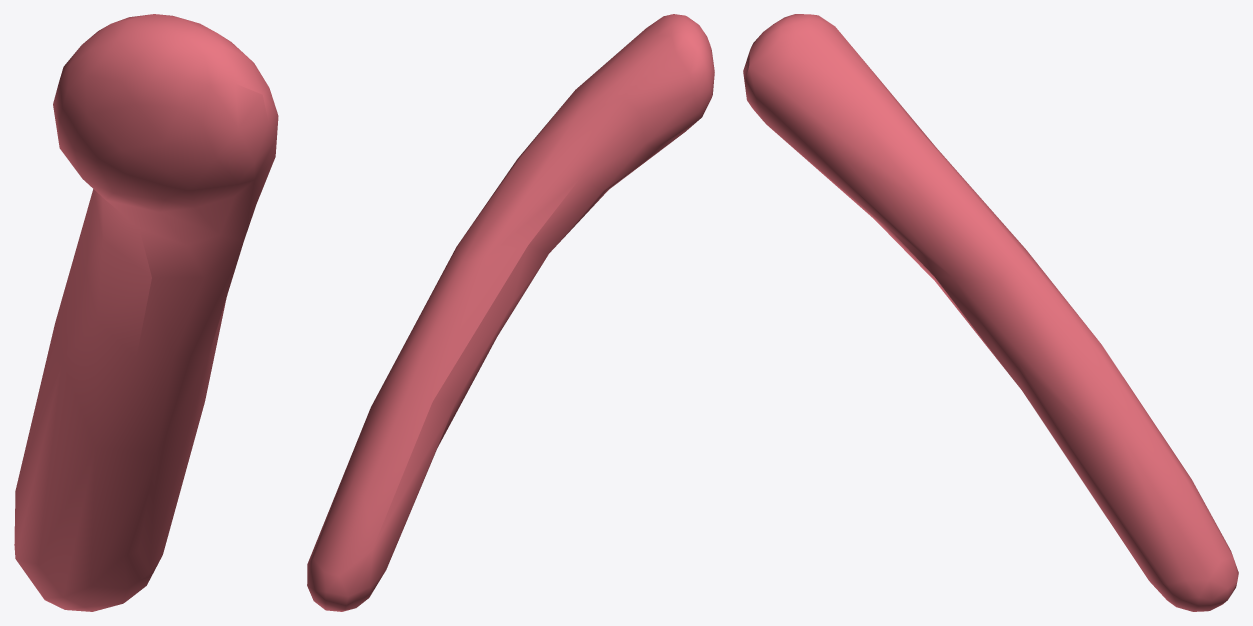
The model's file is fma50306_fj6013.glb.
3 renders of one model, left to right at view 1: azimuth 30°, elevation 25°; view 2: azimuth 150°, elevation 25°; view 3: azimuth 270°, elevation 25°, orthographic. The views are drawn at different scales.
Visible parts, largest first — view 1: FMA50306_FJ6013; view 2: FMA50306_FJ6013; view 3: FMA50306_FJ6013.
Boxes of the visible parts, x1,y1,x2,y2 form: FMA50306_FJ6013: (14, 14, 278, 611); FMA50306_FJ6013: (307, 14, 714, 611); FMA50306_FJ6013: (743, 14, 1238, 611).
Bounding box in the file's own units: 0.0134 × 0.028 × 0.0245.
